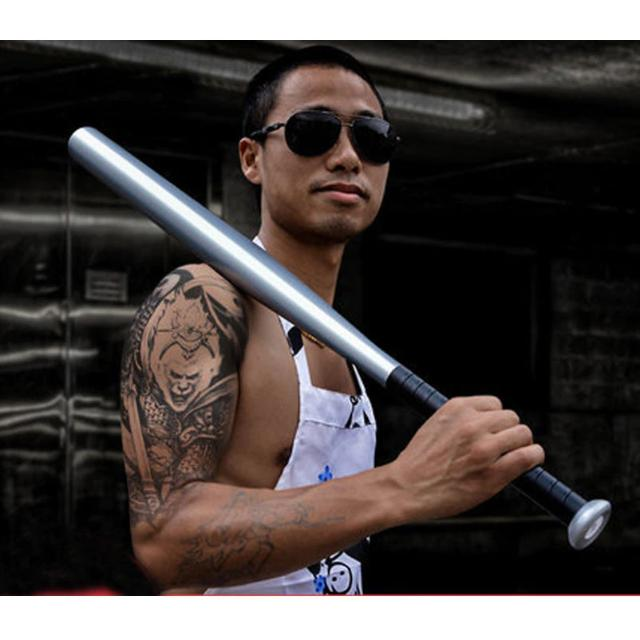baseball bat: (68, 123, 608, 542)
